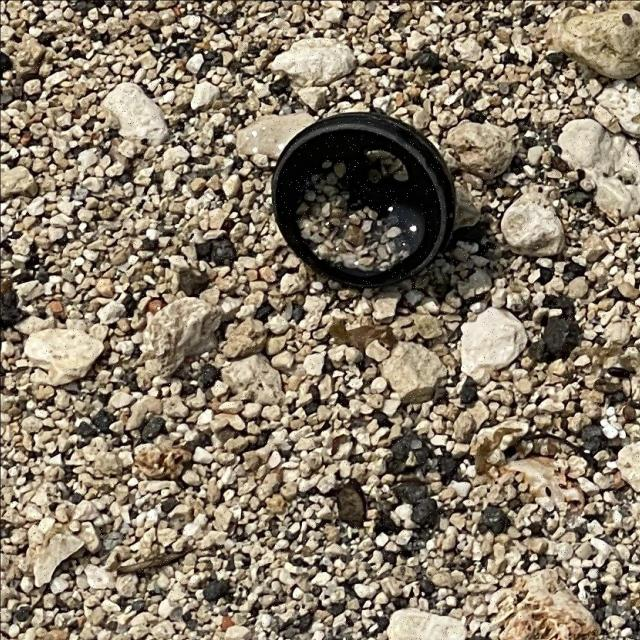plastic_waste: (270, 116, 456, 290)
